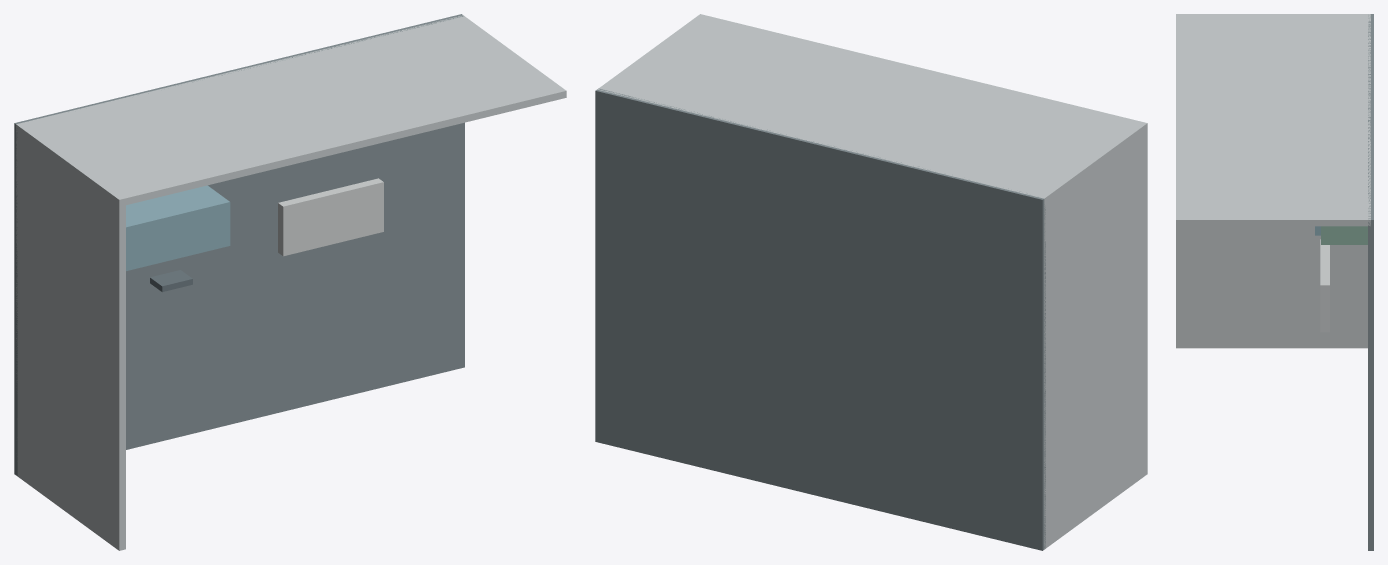
Rendered from ubs-low.glb.
3 views of the same model, side by side, from view 1: azimuth 30°, elevation 25°; view 2: azimuth 150°, elevation 25°; view 3: azimuth 270°, elevation 25° (orthographic). The views are drawn at different scales.
Visible parts, largest first — view 1: floor, wall_back, wall_left, reception_desk, exam_table; view 2: floor, wall_back, wall_left; view 3: wall_back, wall_left, floor, supplies_cabinet, exam_table.
Boxes of the visible parts, bbox=[...] form: floor: bbox=[14, 14, 464, 476]; wall_back: bbox=[16, 15, 566, 206]; wall_left: bbox=[16, 122, 125, 550]; reception_desk: bbox=[126, 185, 230, 270]; exam_table: bbox=[278, 178, 383, 256]; floor: bbox=[595, 88, 1045, 550]; wall_back: bbox=[598, 14, 1147, 204]; wall_left: bbox=[1038, 121, 1147, 549]; wall_back: bbox=[1176, 14, 1370, 226]; wall_left: bbox=[1176, 14, 1370, 348]; floor: bbox=[1368, 14, 1373, 550]; supplies_cabinet: bbox=[1321, 226, 1367, 244]; exam_table: bbox=[1320, 239, 1329, 332].
Size of the model in its own units: 8 by 6 by 3.25.
